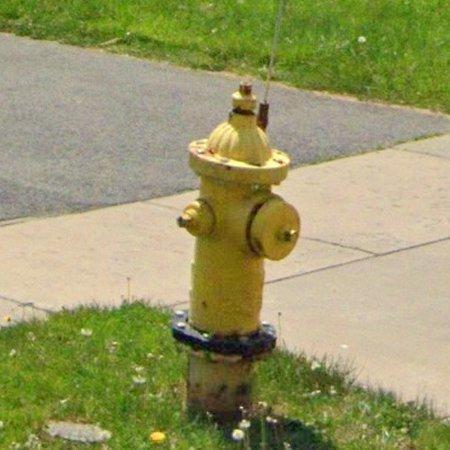a fire hydrant: (172, 84, 301, 421)
